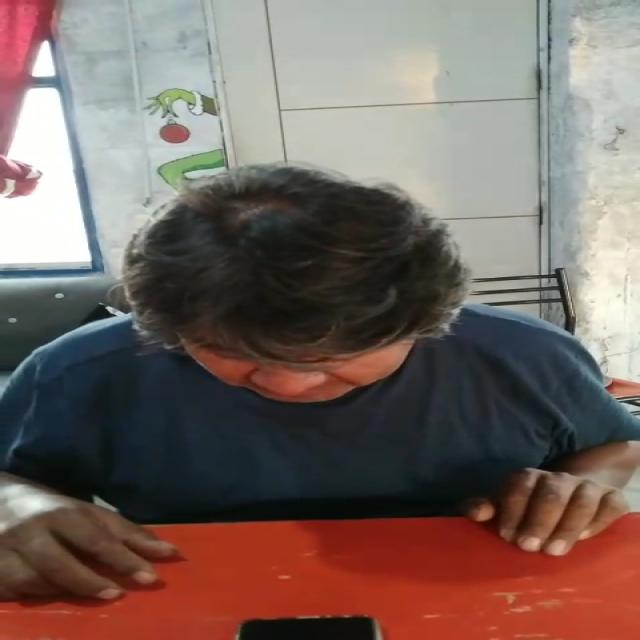9_cabeza_baja: (129, 168, 468, 402)
